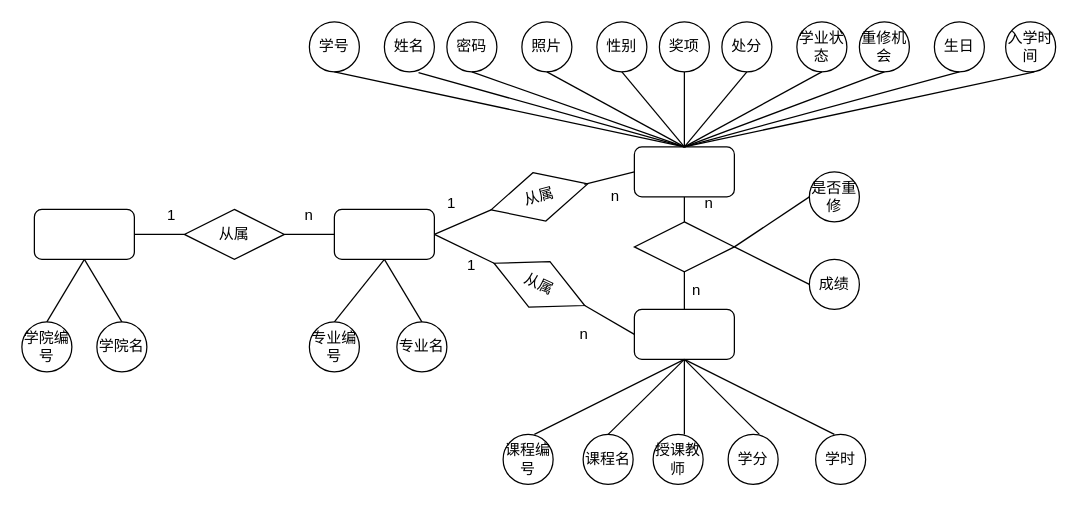
Image size: 1078x506. Some labels were removed from this diagram. The centre of each missing label's shape, as x and y in pixels:
"专业" belongs at point (383, 233).
"学生" belongs at point (683, 171).
"学院" belongs at point (83, 233).
"课程" belongs at point (683, 333).
"选课" belongs at point (683, 246).
